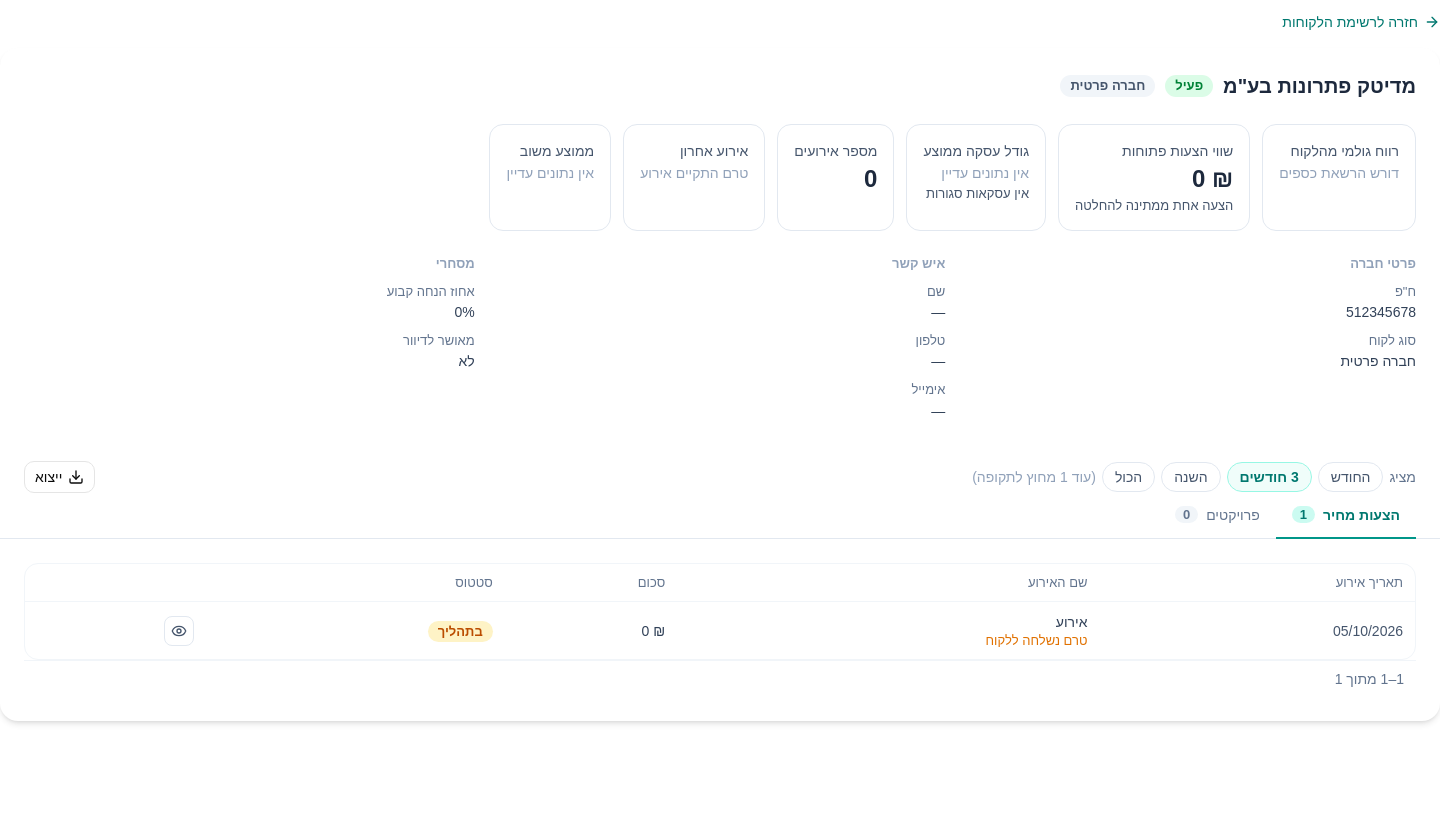
Test: חלון-זמן משותף — ברירת-מחדל (90 יום) מול "הכול", בלשונית ההצעות › הצעה ישנה מ-90 יום מוסתרת כברירת-מחדל, ו-"הכול" מחזיר אותה
Expected: the row with test id "customer-quote-902" is shown, [25,602,1415,659]
Expected: the text with test id "list-window-hidden" shows "1", [1060,469,1068,485]
Step 1. Click the button with test id "list-window-all" → (1129, 477), box [1102,462,1155,492]
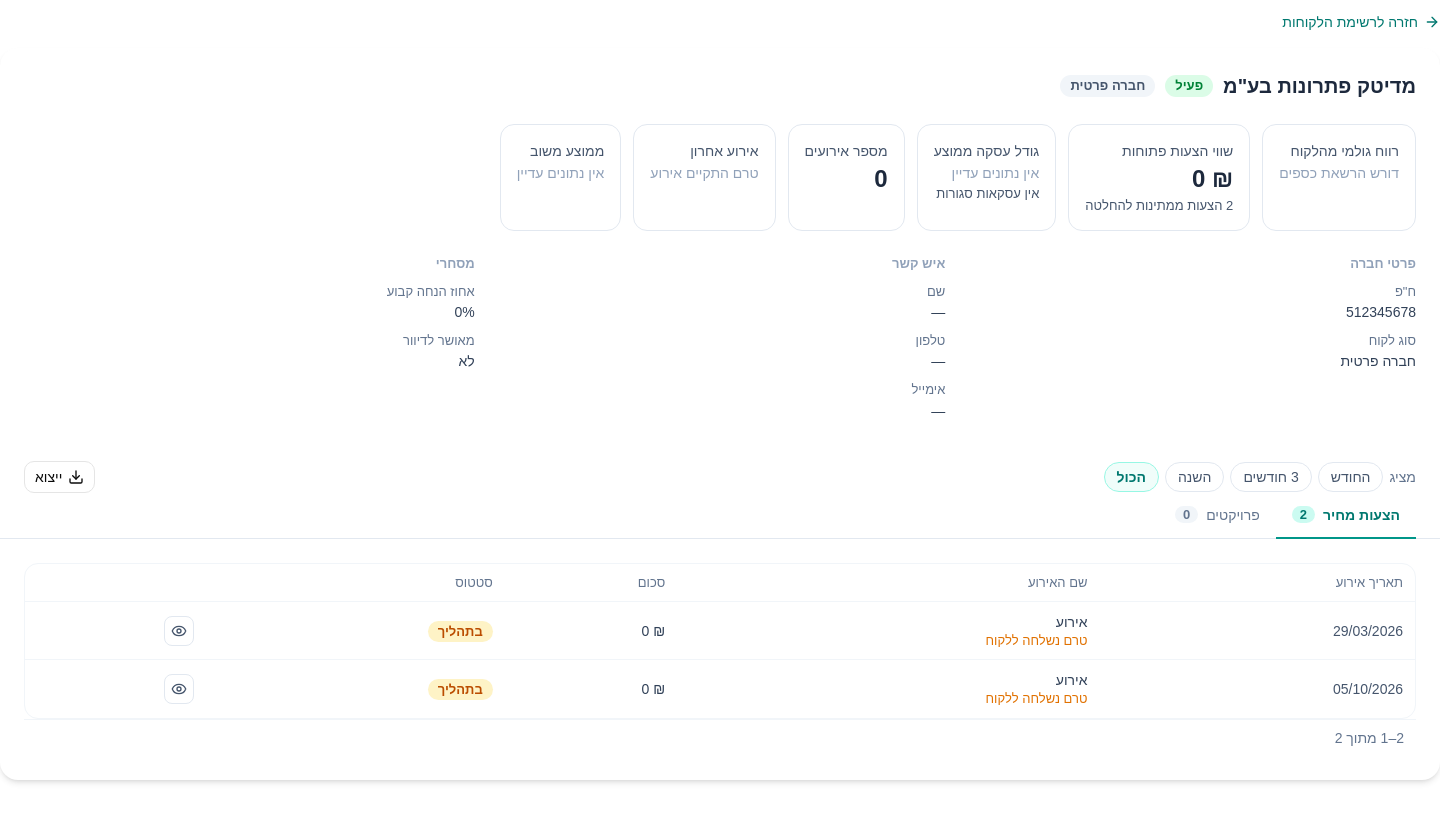
Expected: the row with test id "customer-quote-902" is shown, [25,660,1415,718]
Result: the row with test id "customer-quote-901" is shown at [25,602,1415,660]
